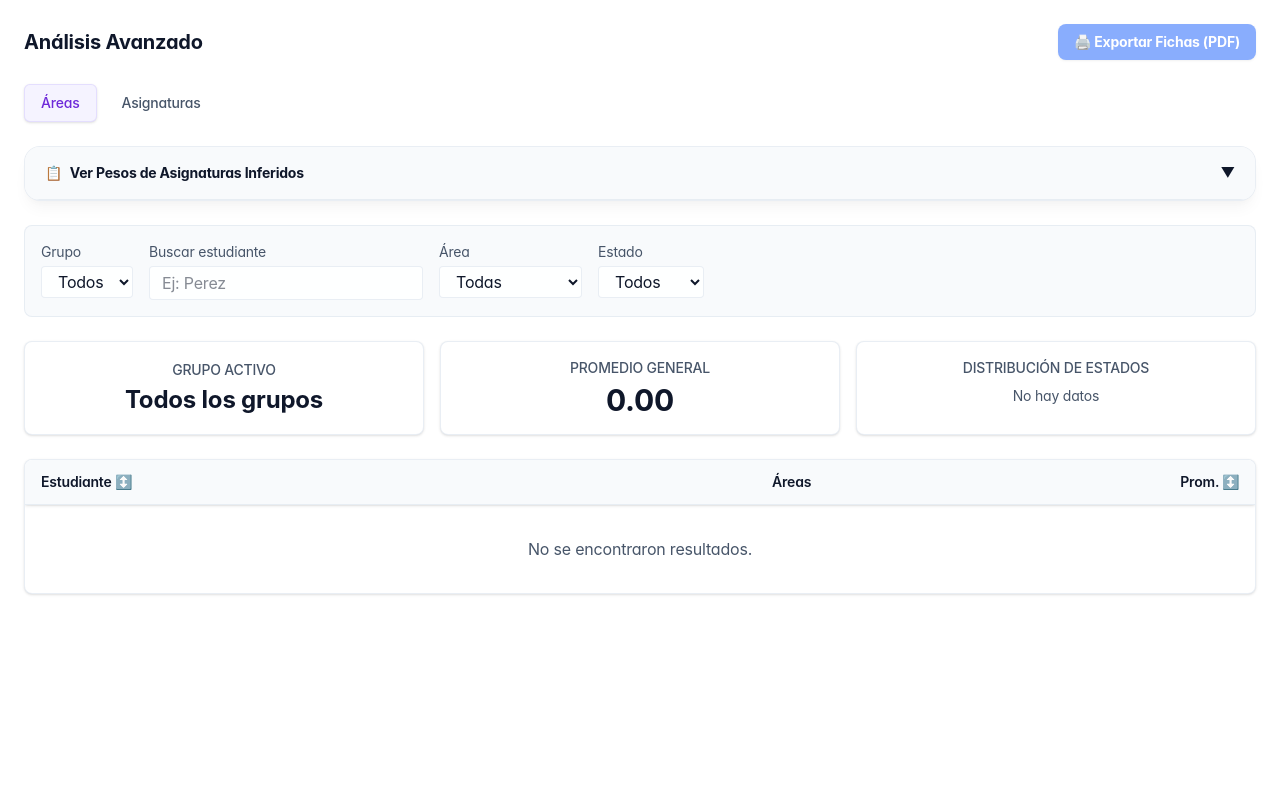
Test: AnalysisTab › toggles weights panel expansion on click
The width and height of the screenshot is (1280, 800).
Click the button "📋 Ver Pesos de Asignaturas Inferidos ▼" at [187, 172], box [25,147,1255,200]
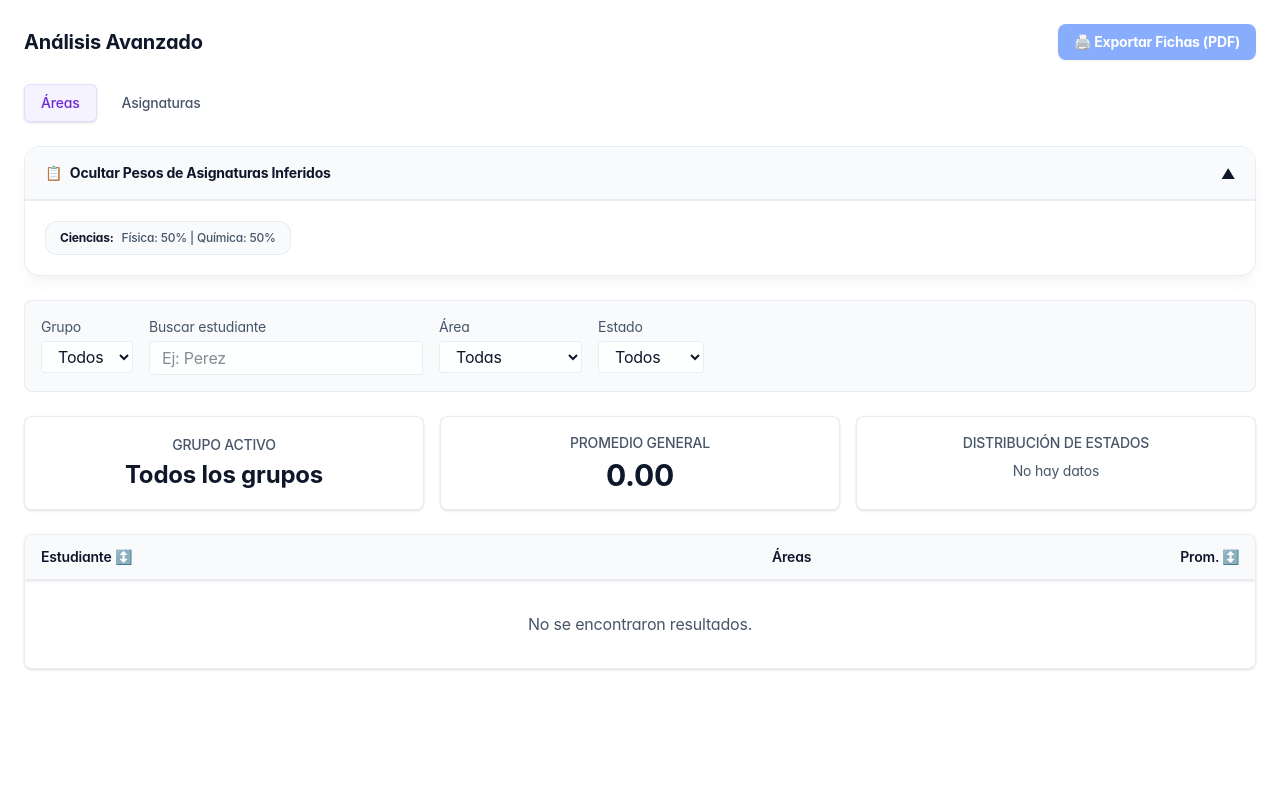
expect the button "📋 Ocultar Pesos de Asignaturas Inferidos ▼" is shown: met
expect the text "Ciencias:" is shown: met, box [60,230,114,246]
expect the text "Física: 50% | Química: 50%" is shown: met, box [122,230,276,246]
Click again to collapse
Click the button "📋 Ocultar Pesos de Asignaturas Inferidos ▼" at [200, 172], box [25,147,1255,200]
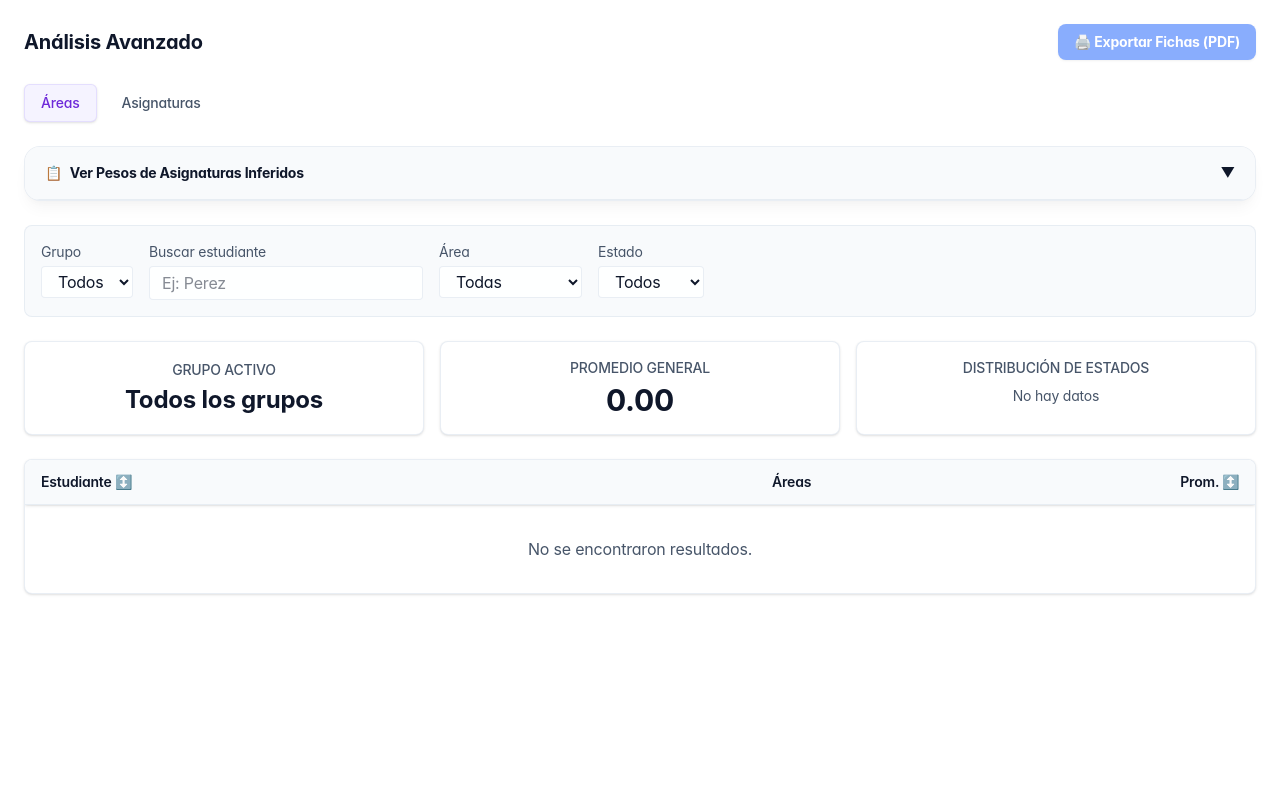
expect the button "📋 Ver Pesos de Asignaturas Inferidos ▼" is shown: met, box [25,147,1255,200]
